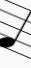note: (1, 10, 31, 57)
